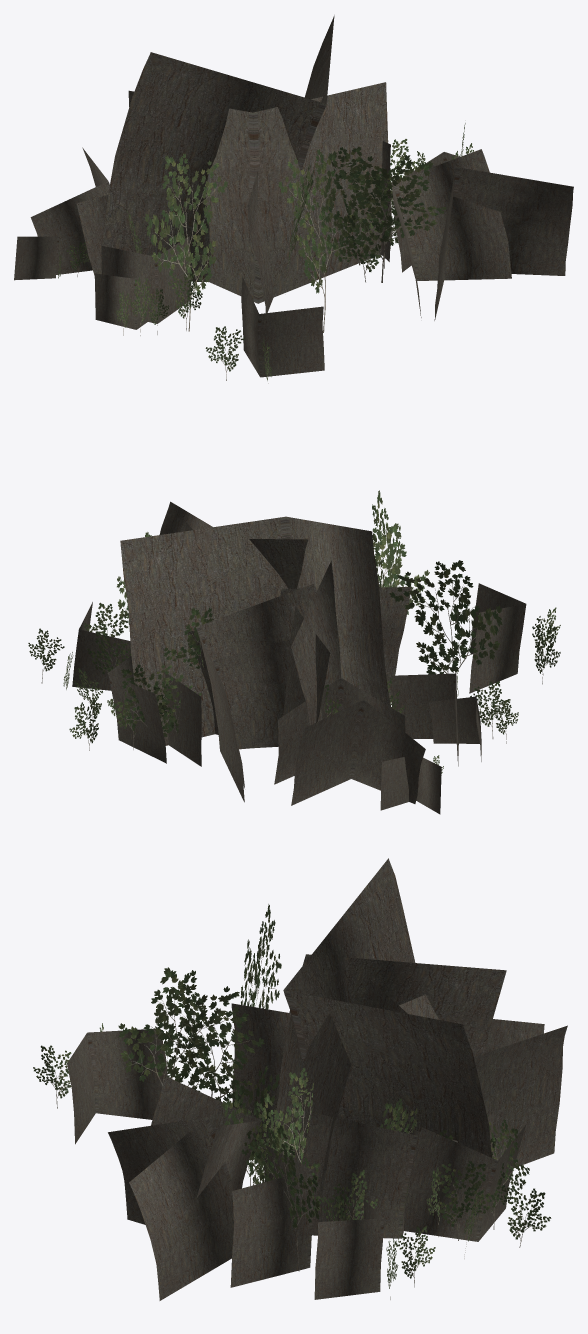
File: Fern.fbx
3 views of the same model, one above another, from view 1: azimuth 30°, elevation 25°; view 2: azimuth 150°, elevation 25°; view 3: azimuth 270°, elevation 25° (orthographic). The views are drawn at different scales.
Visible parts, largest first — view 1: Fern; view 2: Fern; view 3: Fern.
Boxes of the visible parts, x1=… form: Fern: x1=14, y1=15, x2=573, y2=383; Fern: x1=28, y1=490, x2=560, y2=814; Fern: x1=33, y1=858, x2=567, y2=1300.
Size of the model in its own units: 2100 by 1020 by 1954.
